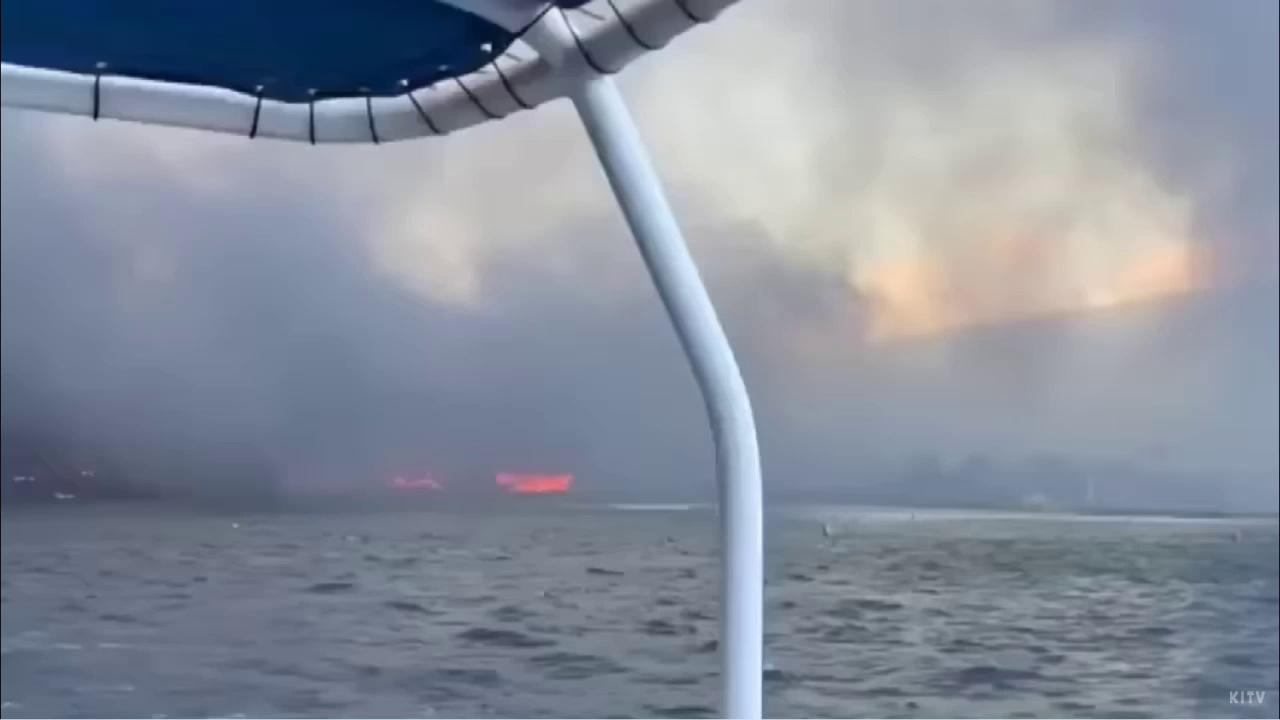fire: (493, 467, 576, 494), (385, 473, 442, 491)
smoke: (0, 0, 1280, 511)
